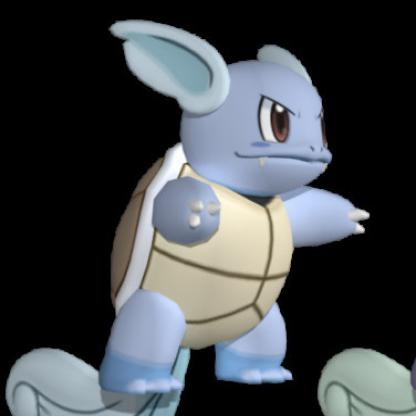Wartortle: (87, 6, 379, 398)
